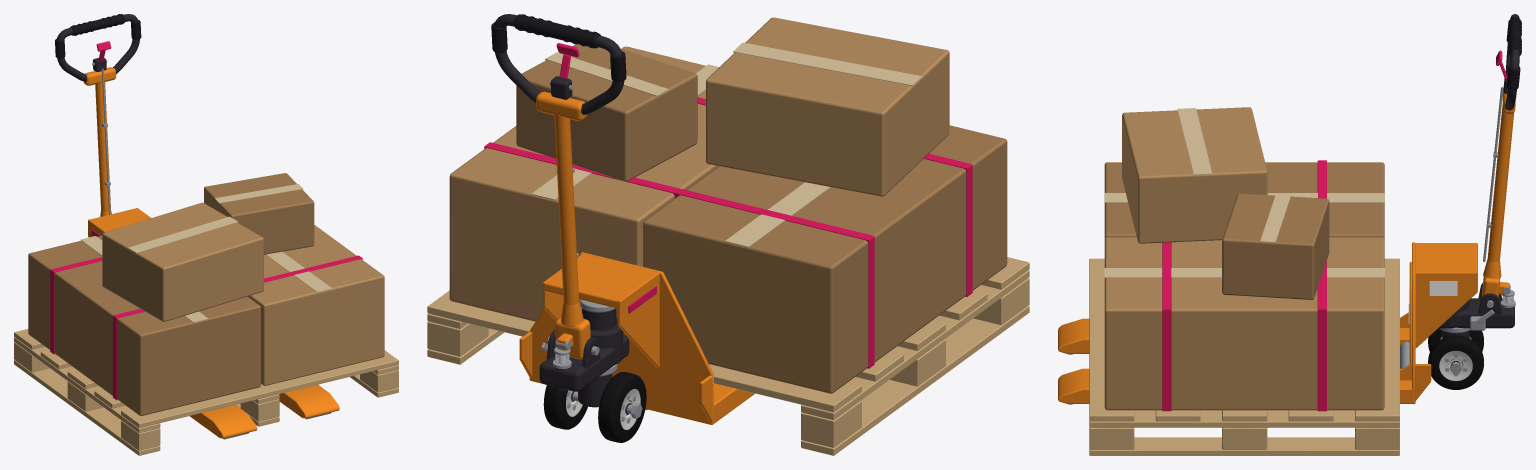
File: pump.glb
3 renders of one model, left to right at view 1: azimuth 30°, elevation 25°; view 2: azimuth 150°, elevation 25°; view 3: azimuth 270°, elevation 25°, orthographic. The views are drawn at different scales.
Visible parts, largest first — view 1: pal_top, till_foot, back_plate; view 2: pal_top, back_plate, till_foot, axle, steer, steer.001; view 3: pal_top, back_plate, till_foot, axle, steer.001, steer_rim.001.
Part boxes in pixels (box(x1,y1,x2,y2)): pal_top: box(14, 173, 398, 455); till_foot: box(55, 14, 141, 216); back_plate: box(88, 208, 339, 439); pal_top: box(427, 17, 1029, 455); back_plate: box(519, 252, 754, 424); till_foot: box(491, 14, 626, 359); axle: box(539, 299, 642, 418); steer: box(598, 372, 646, 442); steer.001: box(543, 385, 587, 429); pal_top: box(1089, 107, 1399, 455); back_plate: box(1058, 242, 1477, 404); till_foot: box(1482, 14, 1521, 297); axle: box(1438, 283, 1515, 373); steer.001: box(1428, 335, 1483, 389); steer_rim.001: box(1439, 350, 1472, 381).
Bounding box in the file's own units: 1.2 × 1.23 × 1.49.
